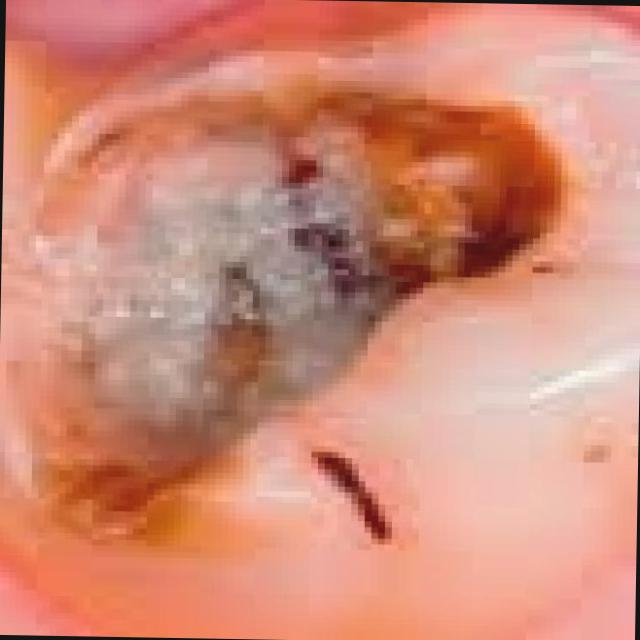caries: (16, 45, 610, 574)
